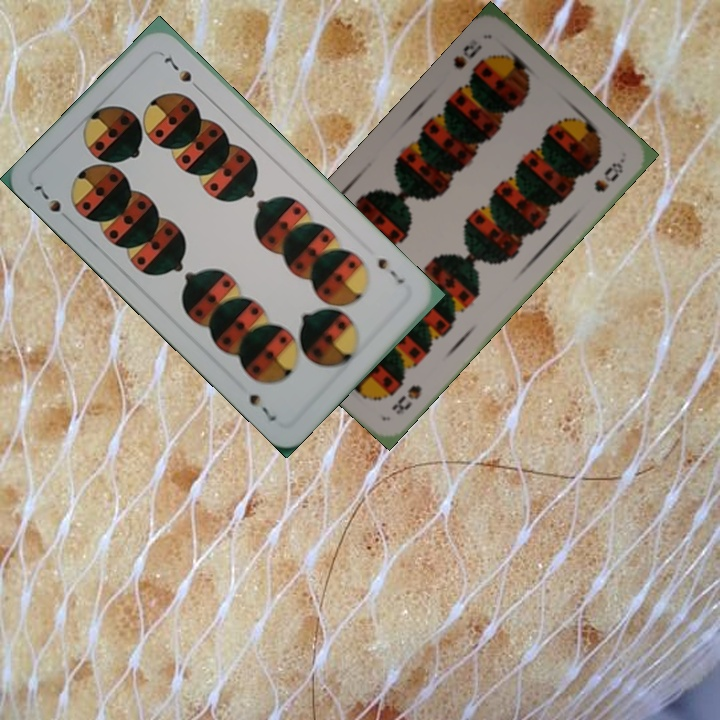S7: (30, 180, 64, 215), (373, 253, 407, 287)
S8: (387, 380, 425, 417), (449, 40, 485, 72)
